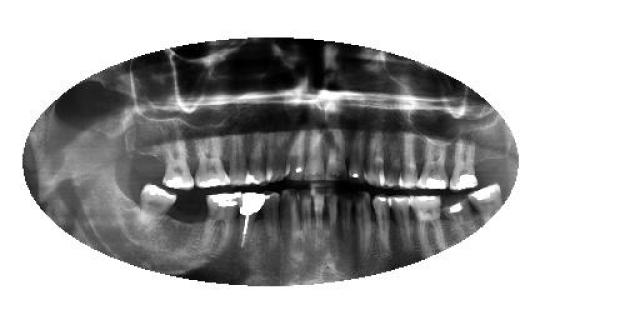Fillings: (204, 190, 241, 250), (190, 136, 231, 189), (139, 183, 176, 235), (441, 190, 479, 240), (161, 139, 195, 190), (419, 138, 449, 192), (448, 139, 478, 190), (468, 181, 504, 220), (246, 134, 268, 186)
Implant: (239, 191, 266, 249)
